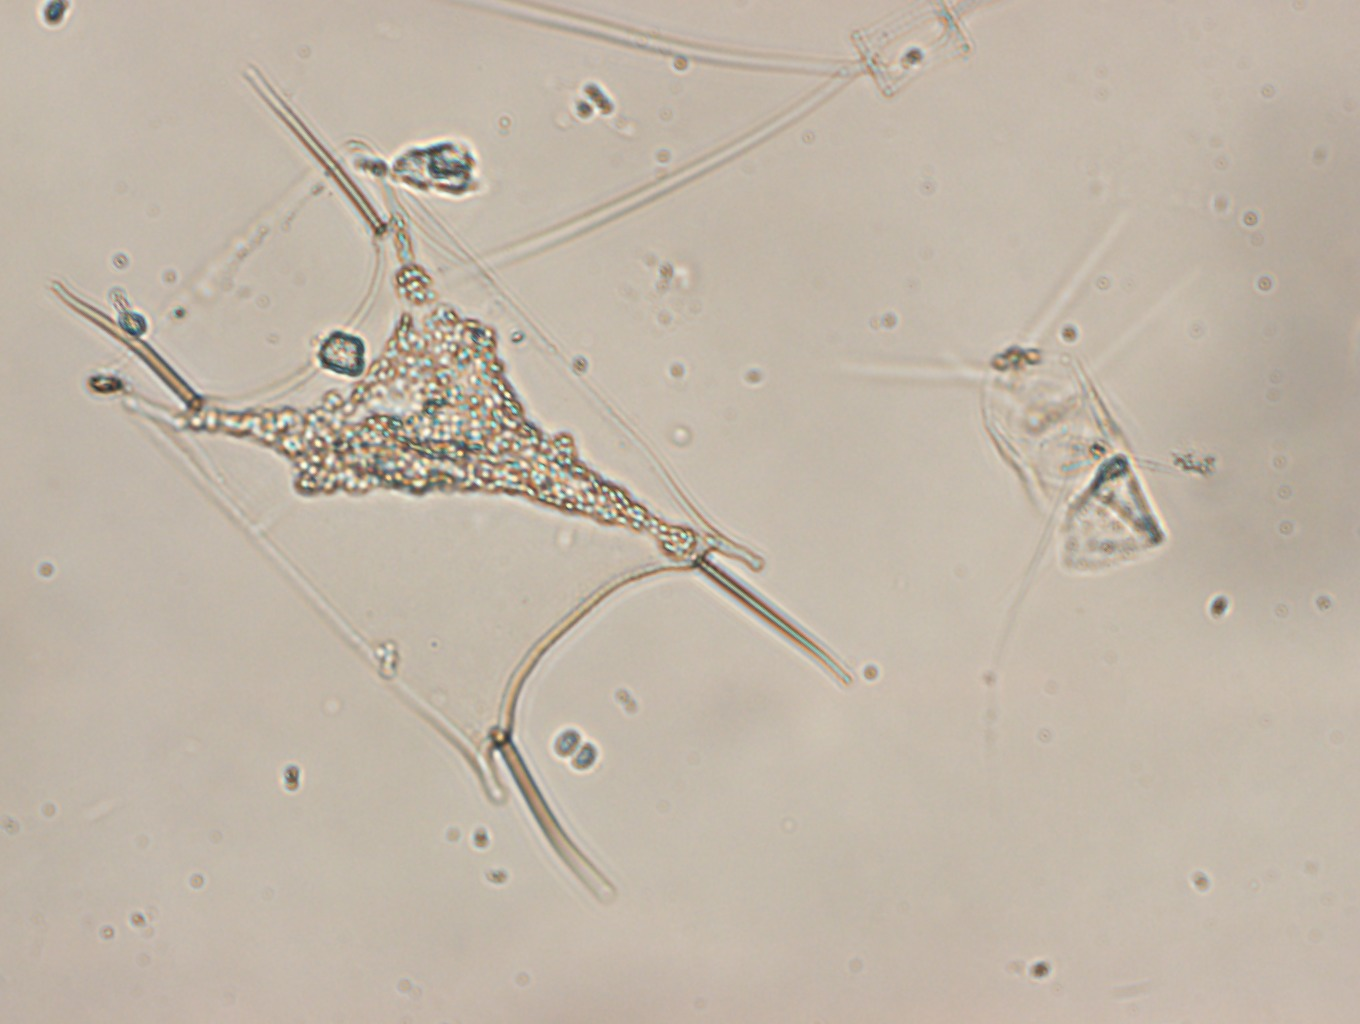biddulphia: (46, 63, 858, 904)
chaetoceros: (441, 1, 988, 283)
